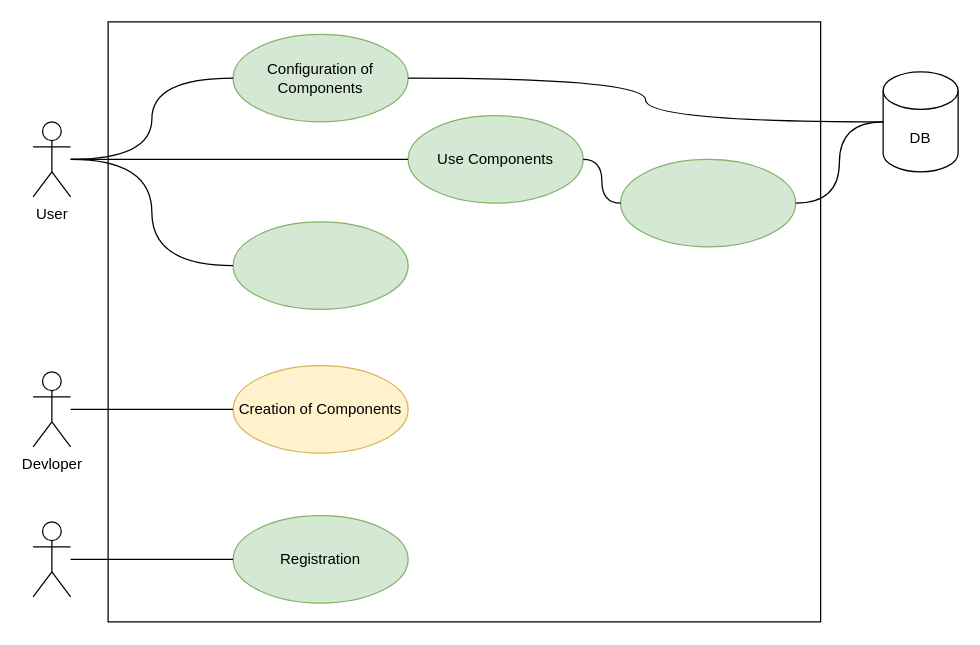
The diagram is 980 pixels wide and 645 high, and some of its shapes have lost their labels. The shapes that lost their labels are listed below. From the top down, each one's centre as x and y in pixels, then its label:
At point (707, 202): "update/ use configuration".
At point (320, 265): "Log In".
At point (51, 559): "Guest".
